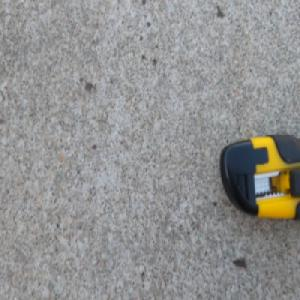Cutter: (217, 131, 300, 222)
